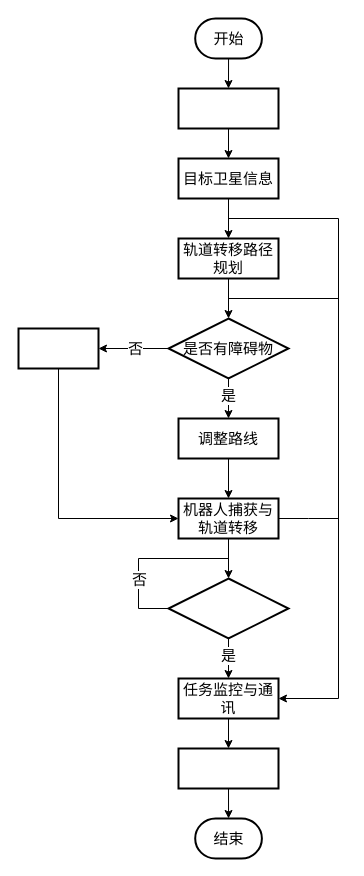
Image size: 364x876. Some labels were removed from this diagram. Here are the shapes that lost their labels. From the top down, the centre of each, then its label:
(x=228, y=108): 初始化机器人和传感器
(x=58, y=348): 维持路线
(x=228, y=608): 转移是否完成
(x=228, y=768): 清除任务完成
